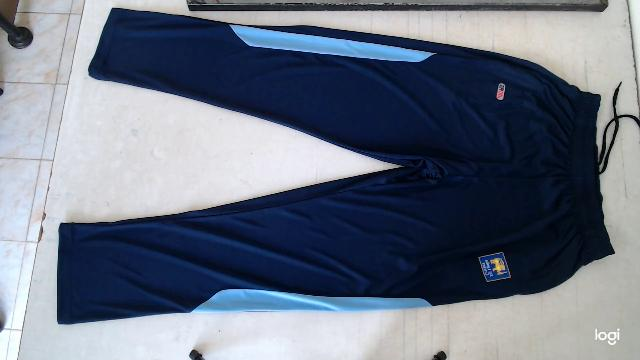new-garment: (57, 8, 614, 324)
